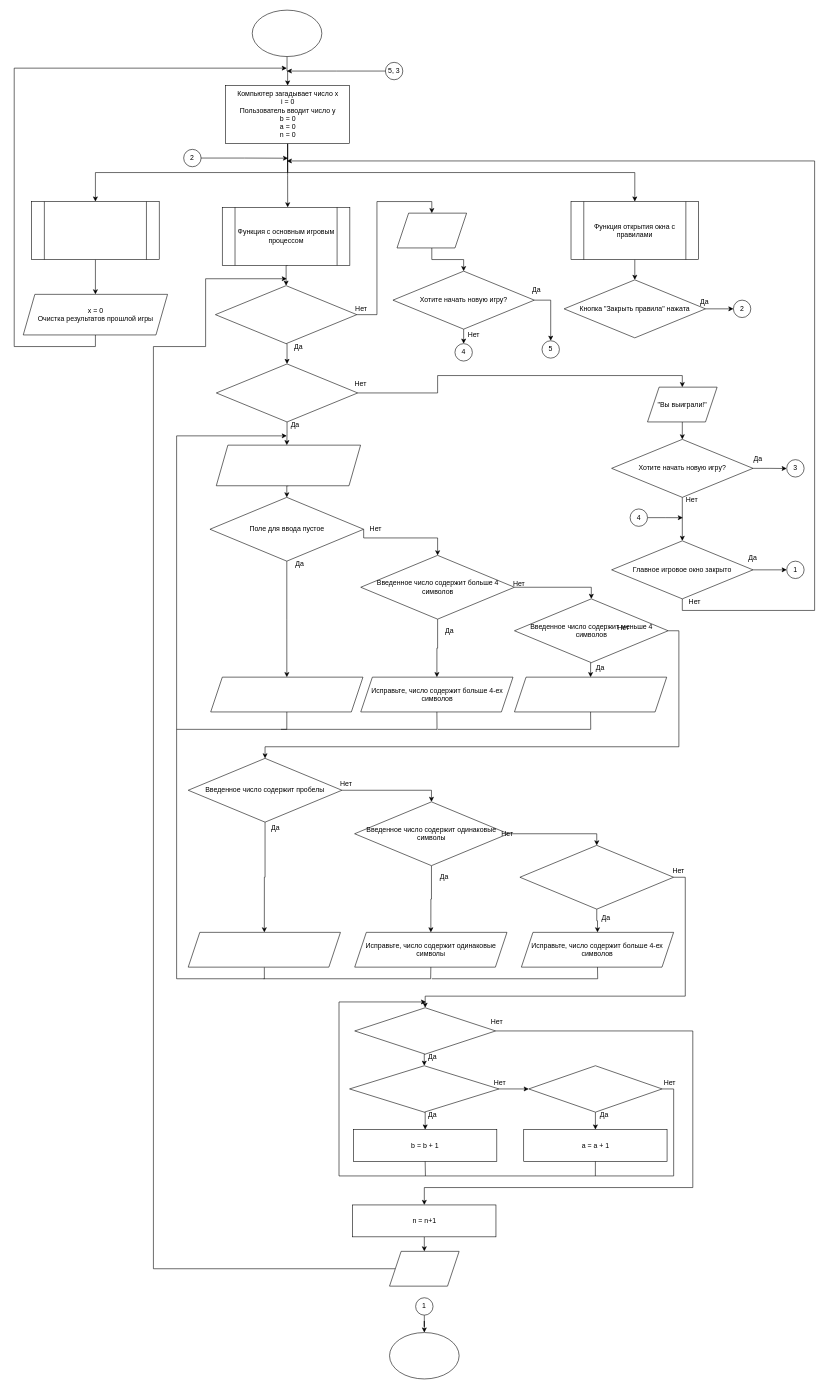
Some shapes in this 829 by 1389 pixel diagram are drawn without their labels. The shapes that lost their labels are listed below. From the top down, each one's centre as x and y in pixels, then its label:
point 287,33: Начало
point 95,230: Функция начала новой игры
point 431,230: "Вы проиграли"
point 286,314: n <= 16
point 287,392: y не равно x
point 288,465: Ввод числа(y)
point 286,694: Исправьте, поле для ввода пустое
point 590,694: Исправьте, число содержит меньше 4-ех символов
point 596,877: Введенное число содержит спецсимволы
point 264,949: Исправьте, число содержит пробелы
point 425,1030: for i in range(4)
point 424,1088: x[i] = y[i]
point 595,1088: y[i] in x
point 424,1268: Вывод b и a
point 424,1355: Конец
